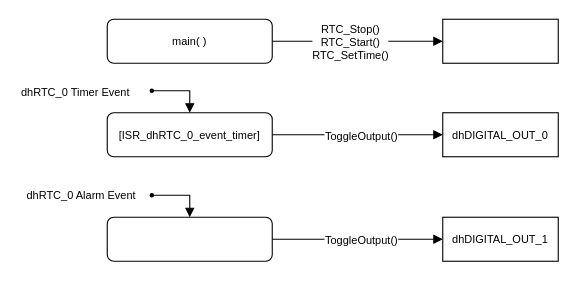
The diagram is 578 pixels wide and 281 high, and some of its shapes have lost their labels. Each missing label, with the box of its shape:
[ISR_dhRTC_0_event_alarm]: (106, 216, 272, 261)
dhRTC_0: (442, 18, 558, 63)
